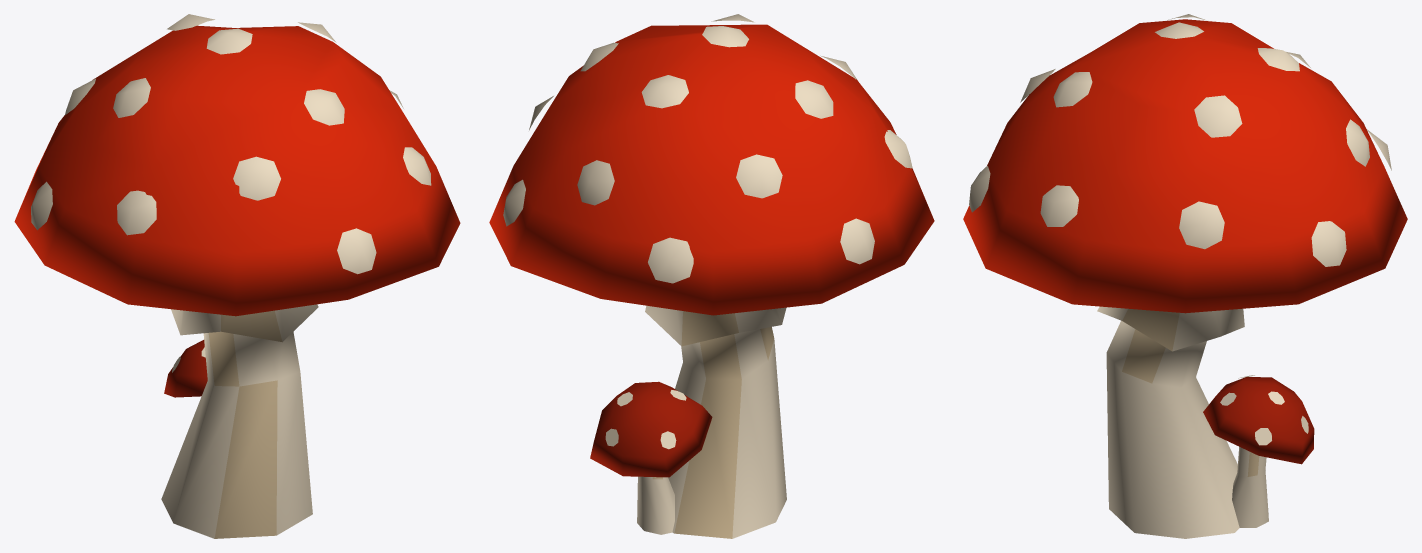
File: natureuniverse_shroom_shroom_original.glb
3 views of the same model, side by side, from view 1: azimuth 30°, elevation 25°; view 2: azimuth 150°, elevation 25°; view 3: azimuth 270°, elevation 25° (orthographic).
Parts seen in each view (by area): view 1: Shroom; view 2: Shroom; view 3: Shroom.
Part boxes in pixels (left/top/right/bottom): Shroom: left=14, top=14, right=460, bottom=538; Shroom: left=489, top=14, right=934, bottom=538; Shroom: left=963, top=14, right=1407, bottom=538.
Size of the model in its own units: 1.68 by 2 by 1.68.
1 material, 1 textured.
